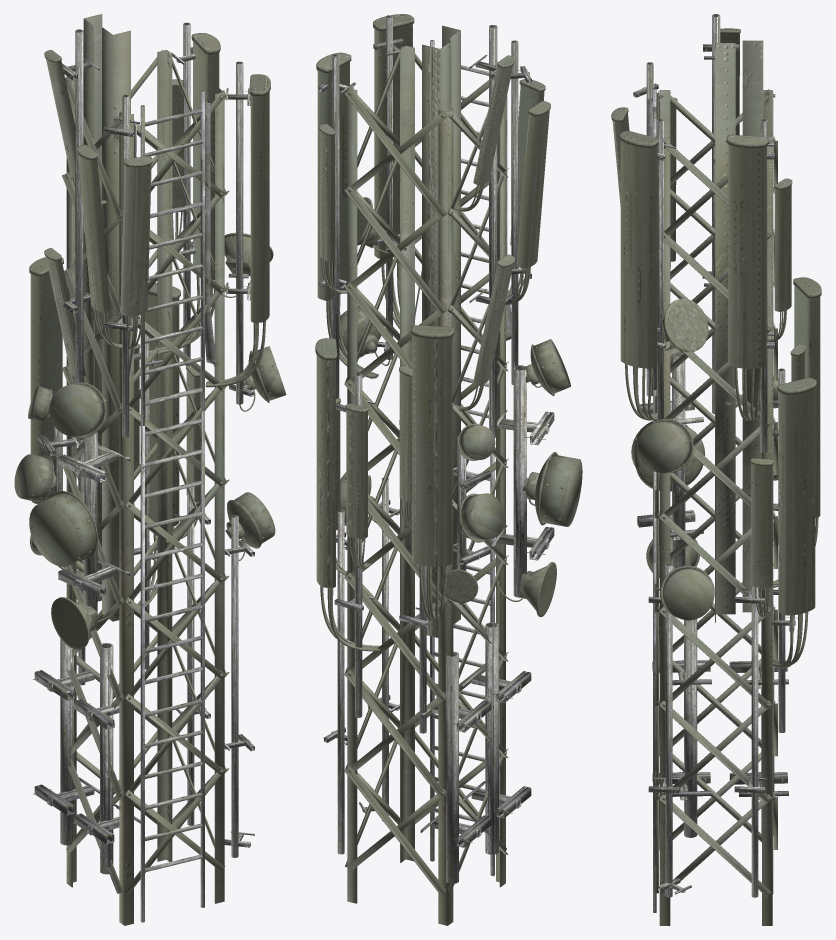
The model's file is cell tower 3.glb.
The picture shows the model from 3 angles, left to right: view 1: azimuth 30°, elevation 25°; view 2: azimuth 150°, elevation 25°; view 3: azimuth 270°, elevation 25°; orthographic projection. The views are drawn at different scales.
Parts seen in each view (by area): view 1: Cell Tower 1; view 2: Cell Tower 1; view 3: Cell Tower 1.
Part boxes in pixels (box(x1,y1,x2,y2)): Cell Tower 1: box(14, 14, 286, 925); Cell Tower 1: box(315, 14, 582, 925); Cell Tower 1: box(611, 14, 821, 925).
Size of the model in its own units: 2.7 by 9.37 by 2.09.
3 materials, 3 textured.
